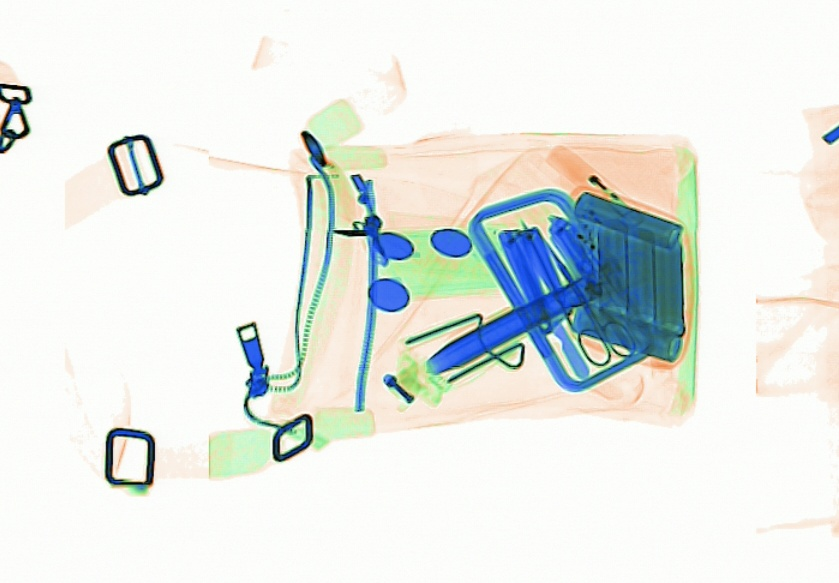lighter: (544, 143, 643, 234)
powerbank: (564, 192, 690, 368)
scissors: (540, 240, 645, 371)
